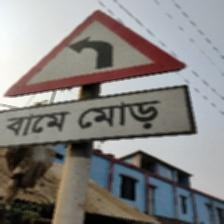Left-Turn: (2, 7, 192, 149)
